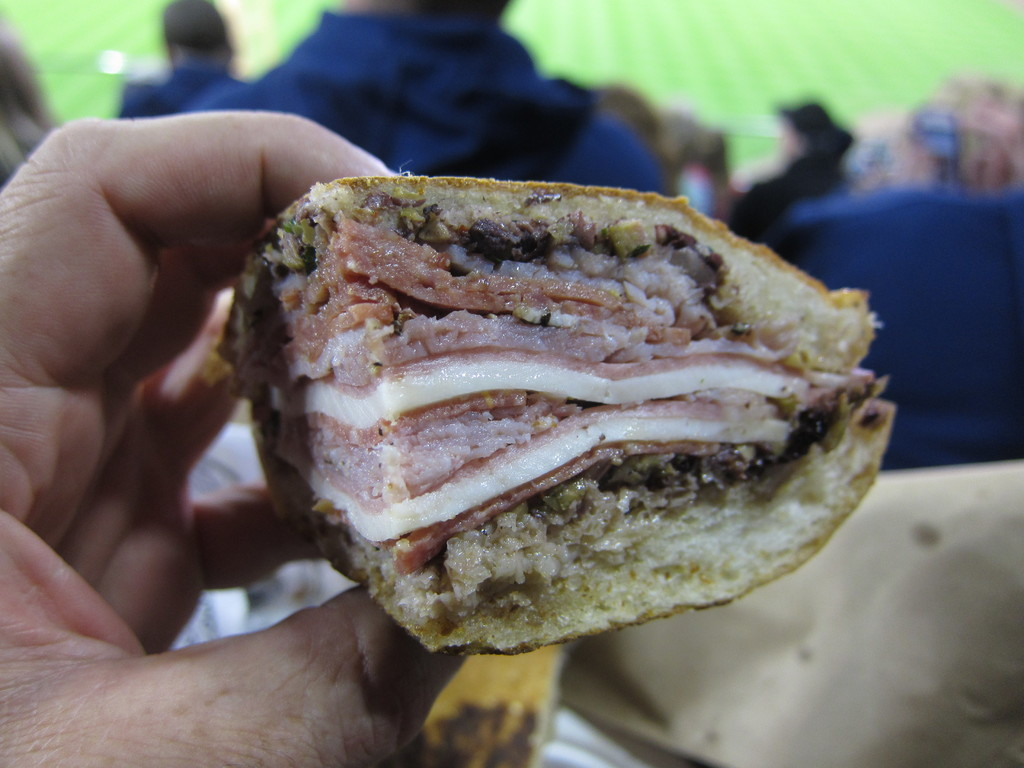sandwich: (214, 173, 898, 658)
